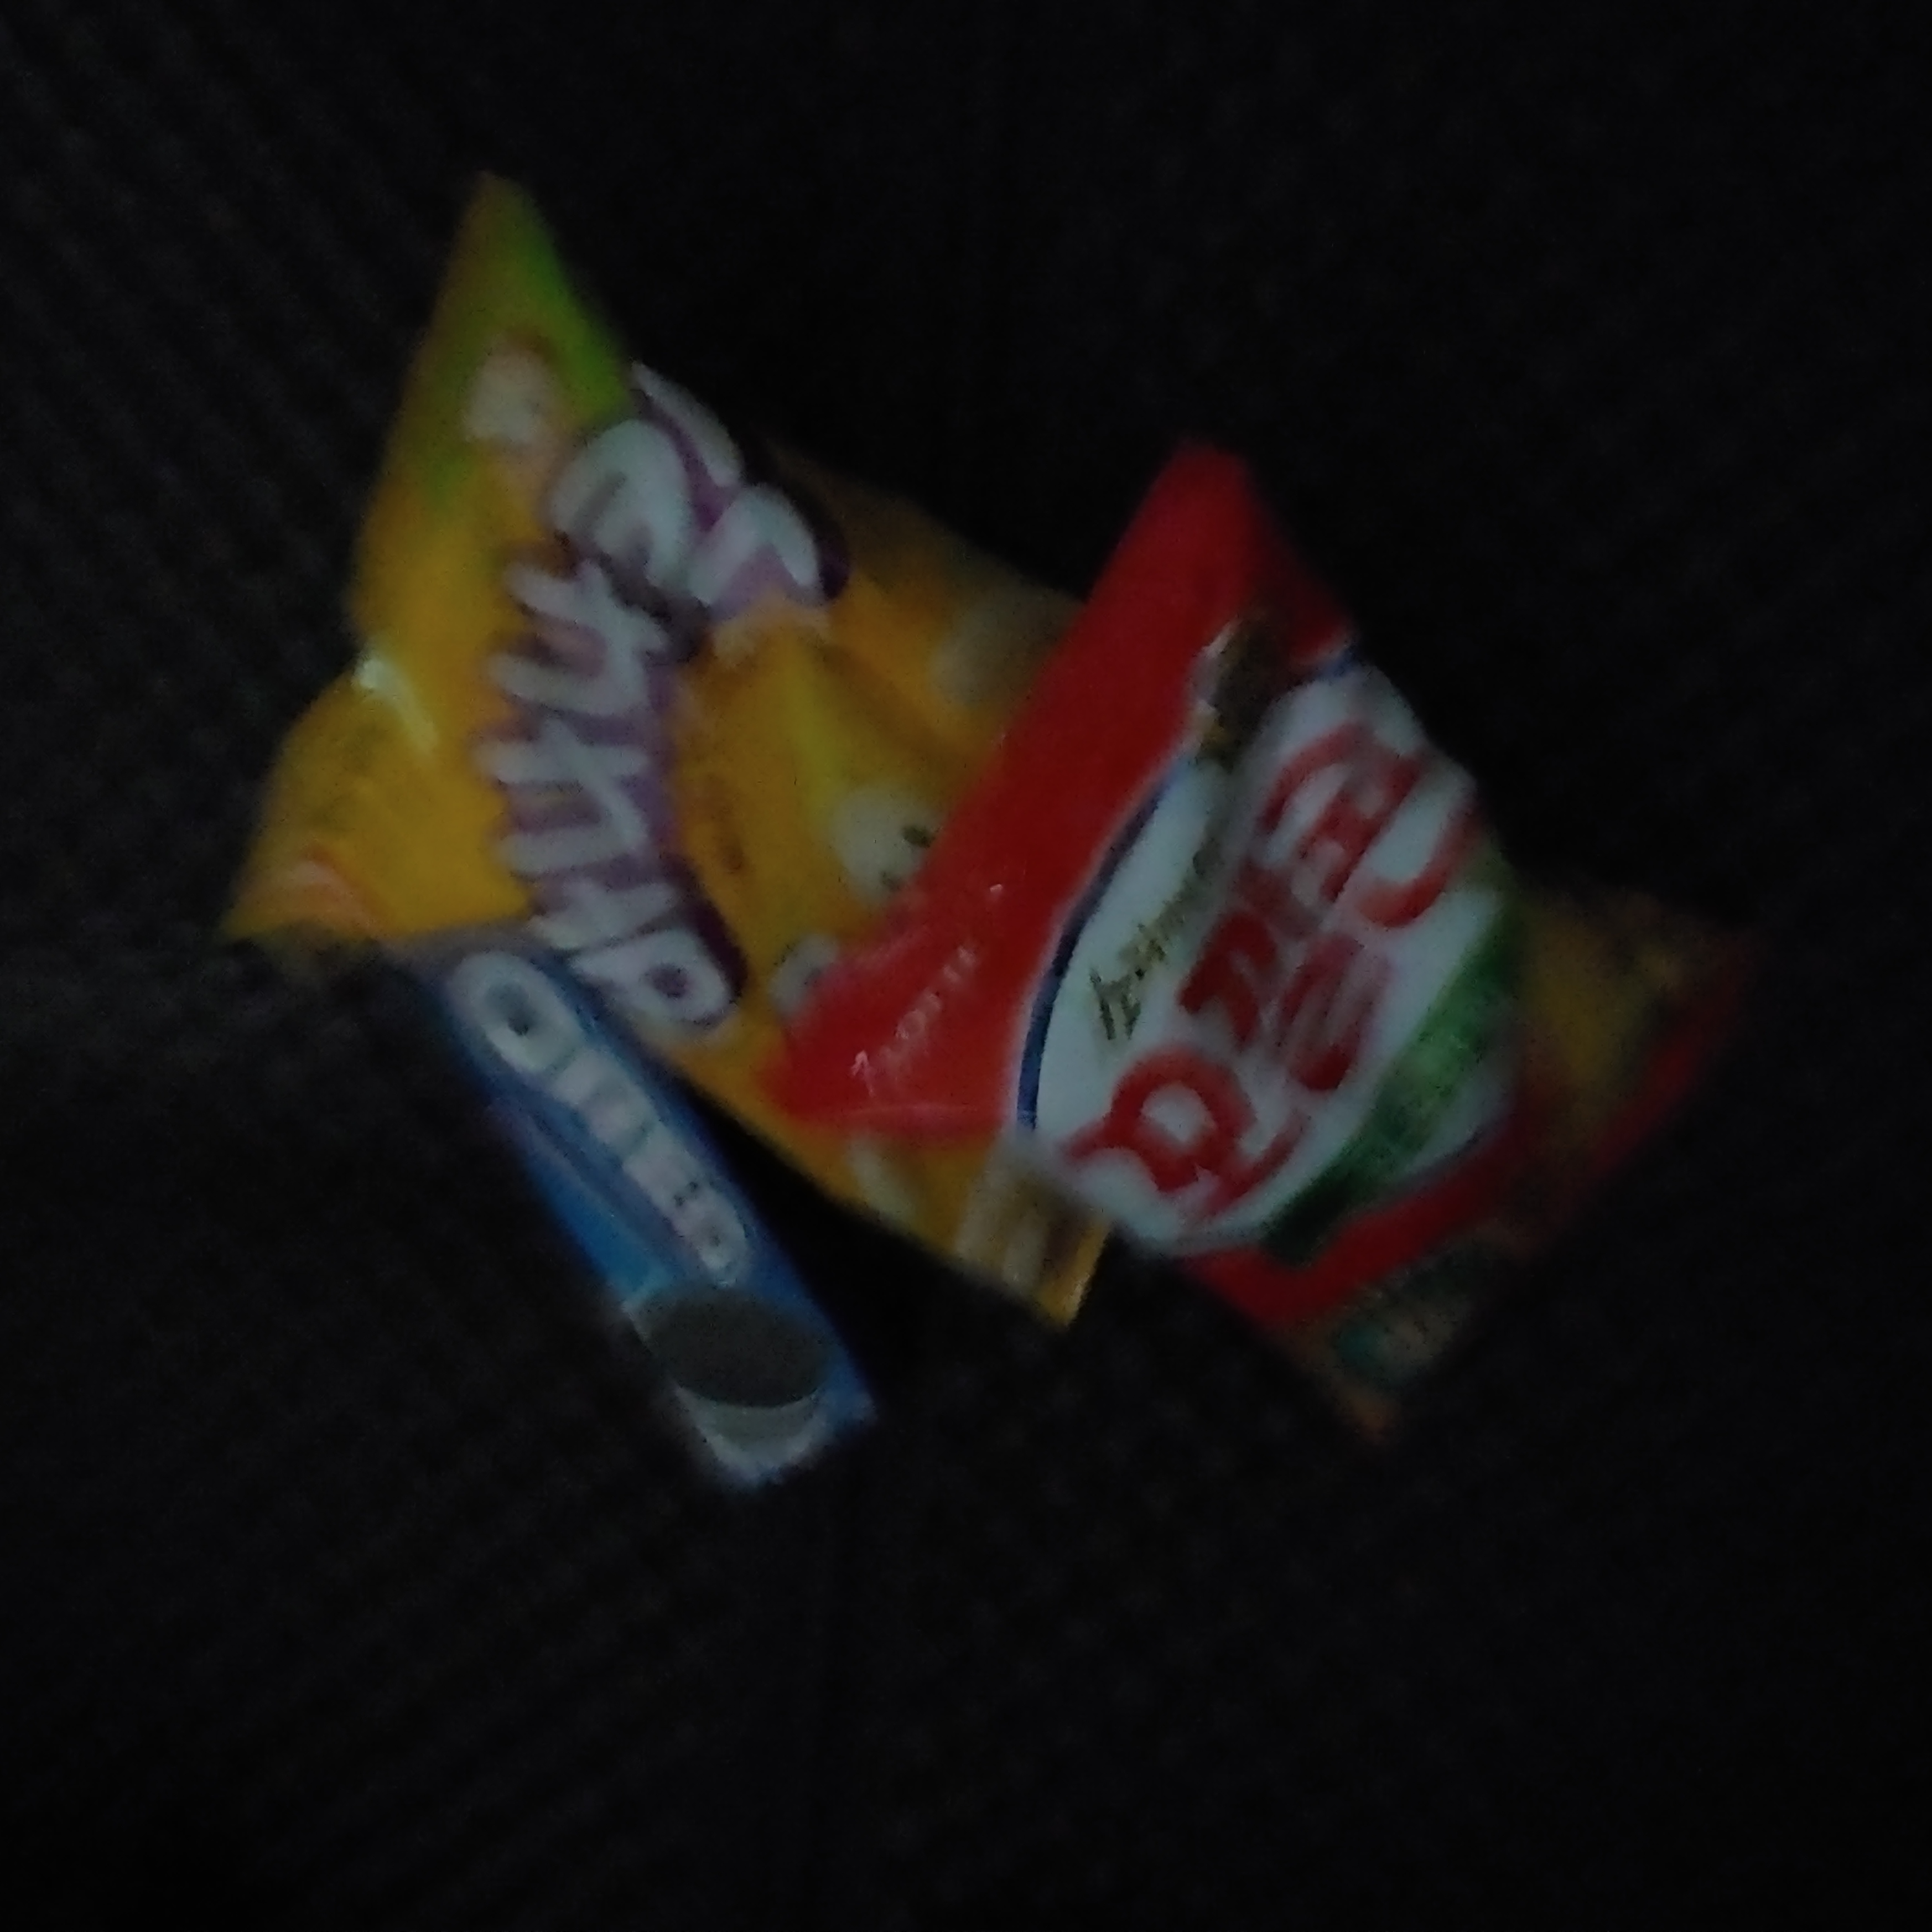banana: (292, 74, 1164, 1338)
ggoggalcon: (798, 345, 1760, 1507)
oreo: (366, 862, 959, 1537)
